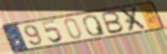0: (64, 17, 84, 41)
5: (40, 19, 64, 44)
9: (22, 24, 45, 47)
B: (100, 11, 125, 36)
Q: (82, 14, 108, 37)
X: (119, 5, 149, 32)
